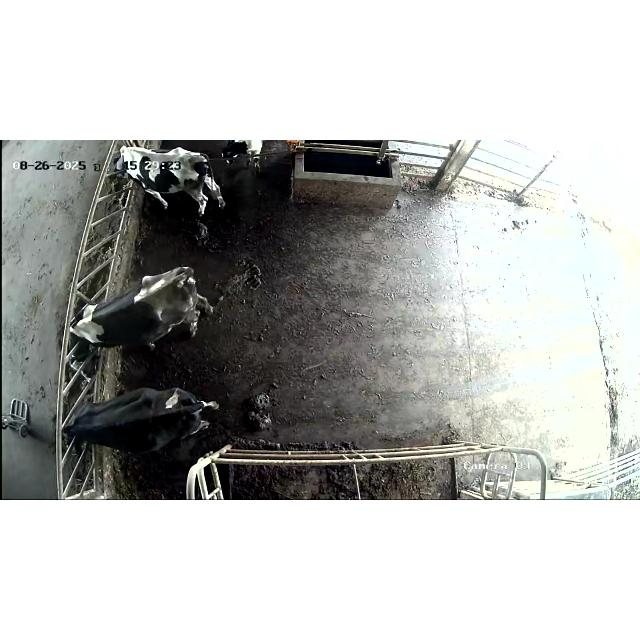eat: (54, 296, 124, 384), (39, 396, 115, 452), (84, 144, 148, 188)
